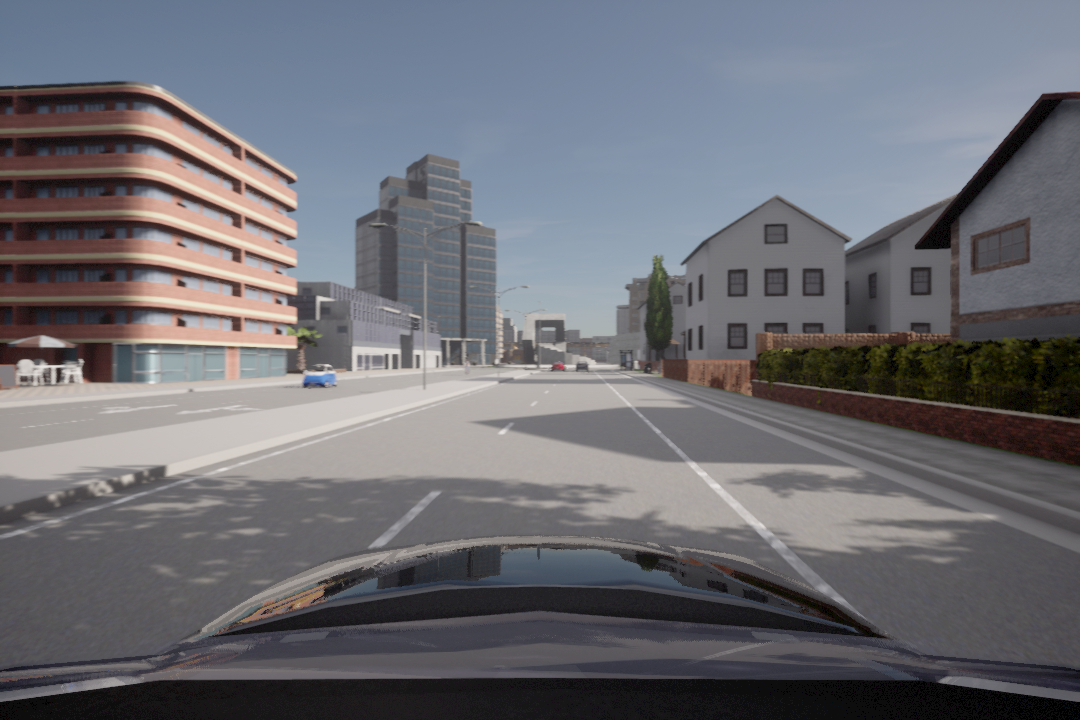RoadSign_forward_left: (174, 399, 265, 420)
RoadSign_forward_right: (94, 401, 174, 414)
